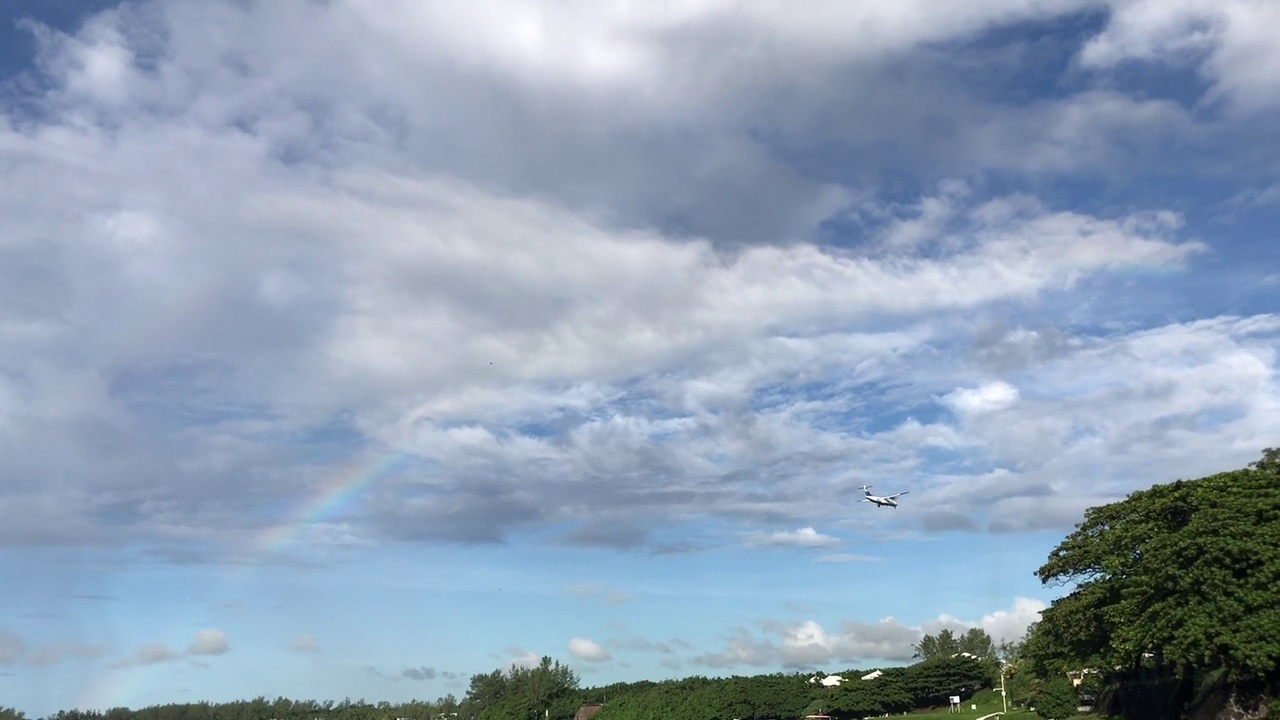plane: (856, 483, 908, 508)
